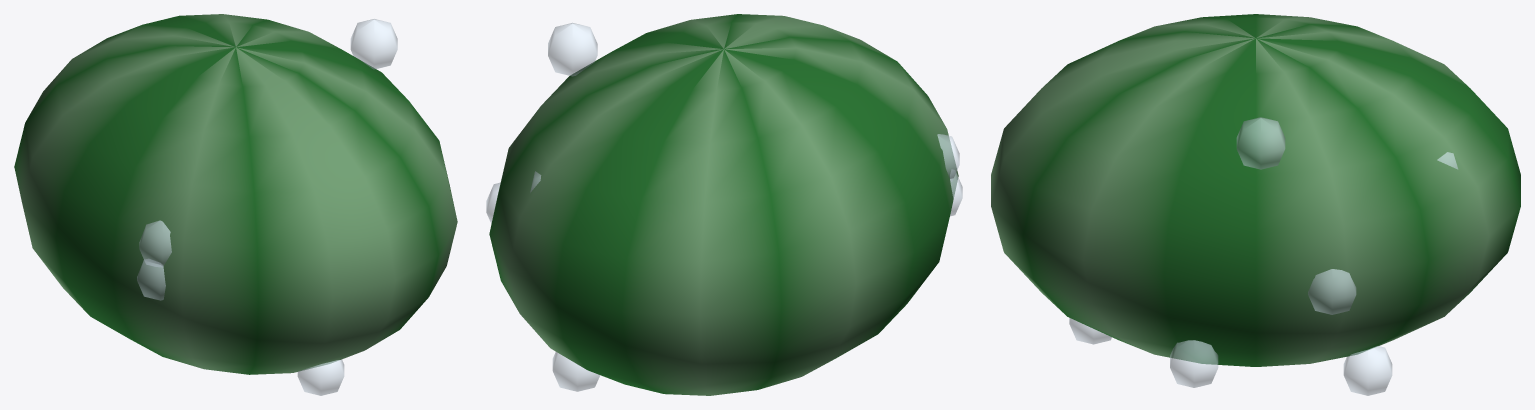
File: fruit-watermelon-wet.gltf
3 renders of one model, left to right at view 1: azimuth 30°, elevation 25°; view 2: azimuth 150°, elevation 25°; view 3: azimuth 270°, elevation 25°, orthographic. The views are drawn at different scales.
Bounding box in the file's own units: 1.12 × 0.8855 × 1.35.
